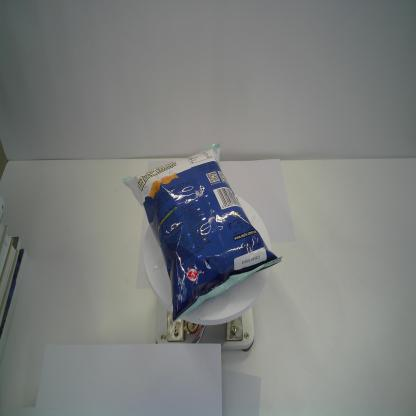Puffed Food: (122, 140, 283, 324)
